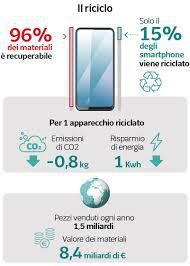Smartphone: (76, 28, 116, 111)
